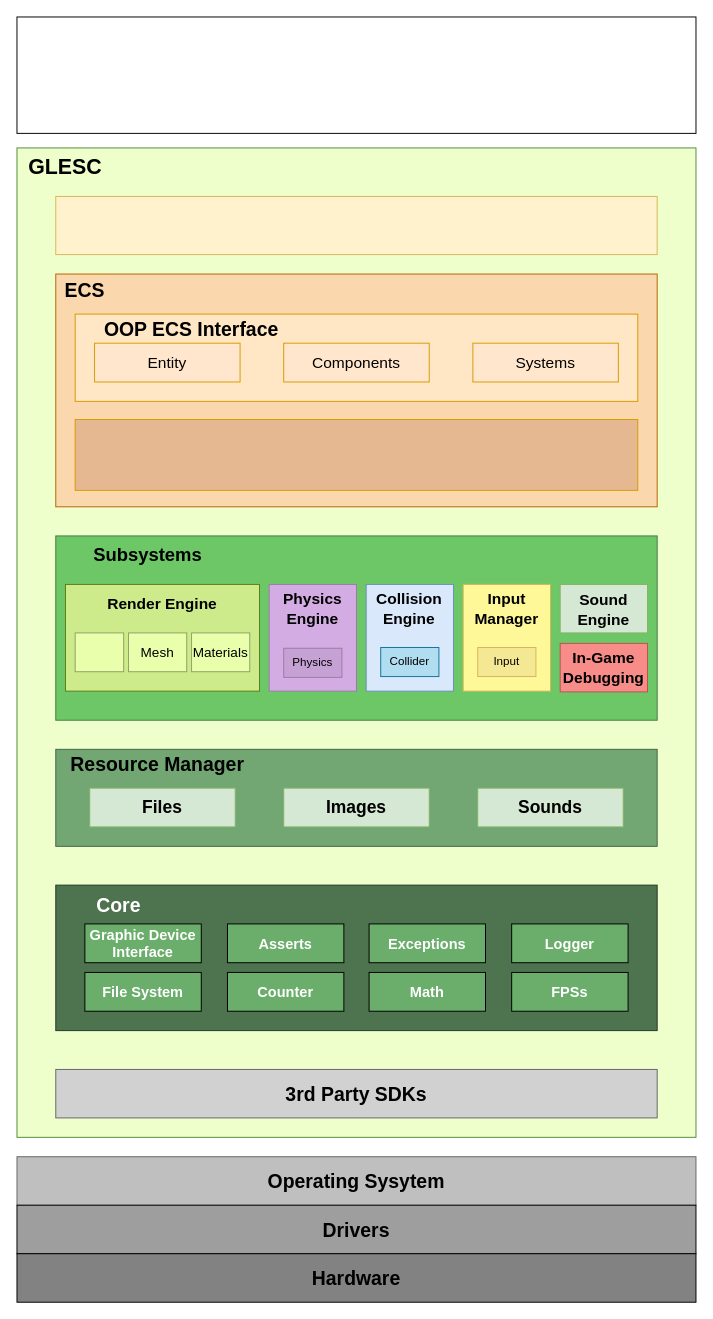
Image size: 713x1319. Some labels were removed from this diagram. The box of each missing label's shape, as (x1, y1, x2, y2) in pixels:
Data Backend: (74, 419, 638, 490)
Game: (16, 16, 696, 133)
HUDs: (74, 632, 124, 672)
Scene Manager: (55, 195, 657, 255)
